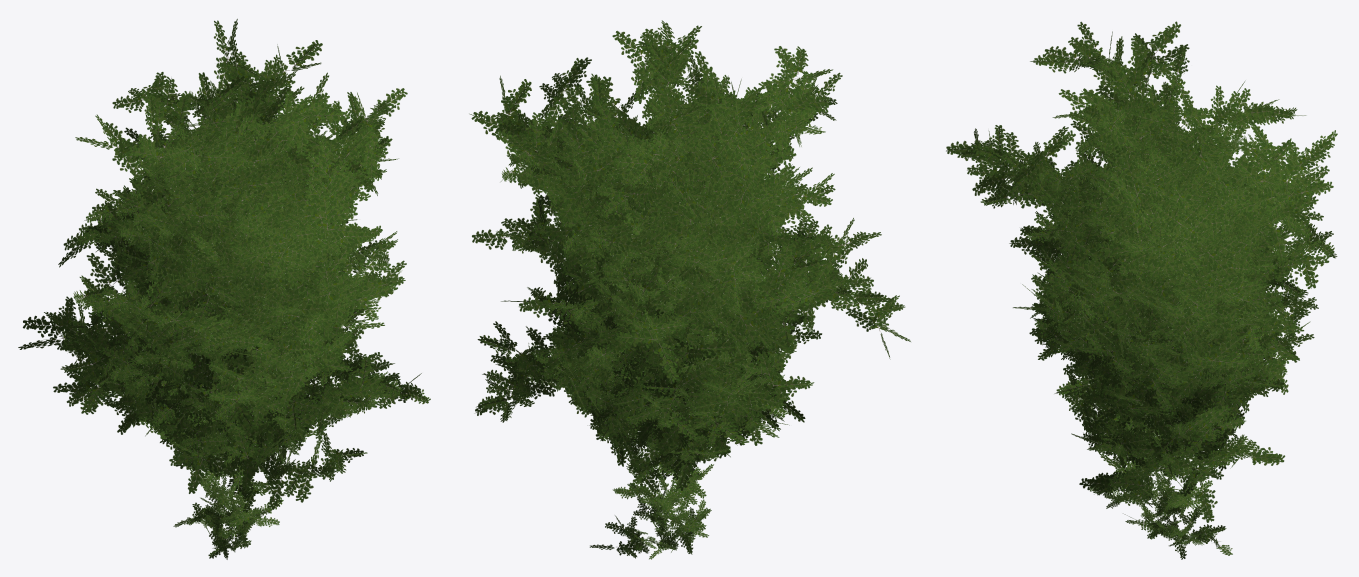
Rendered from oak_leaf.glb.
The picture shows the model from 3 angles, left to right: view 1: azimuth 30°, elevation 25°; view 2: azimuth 150°, elevation 25°; view 3: azimuth 270°, elevation 25°; orthographic projection. The views are drawn at different scales.
Visible parts, largest first — view 1: oak_c, oak_a, oak_b, oak_sap_a; view 2: oak_c, oak_a, oak_b, oak_sap_a; view 3: oak_c, oak_a, oak_b, oak_sap_a.
Boxes of the visible parts, left/top/right/bottom form: oak_c: left=23, top=19, right=407, bottom=498; oak_a: left=18, top=92, right=406, bottom=493; oak_b: left=88, top=237, right=430, bottom=512; oak_sap_a: left=173, top=473, right=283, bottom=559; oak_c: left=470, top=20, right=910, bottom=458; oak_a: left=501, top=57, right=848, bottom=492; oak_b: left=475, top=205, right=808, bottom=493; oak_sap_a: left=589, top=464, right=713, bottom=559; oak_c: left=946, top=21, right=1337, bottom=464; oak_a: left=1013, top=125, right=1337, bottom=476; oak_b: left=1029, top=233, right=1316, bottom=522; oak_sap_a: left=1104, top=467, right=1232, bottom=559.
Size of the model in its own units: 14.5 by 17.85 by 13.25.
1 material, 1 textured.
